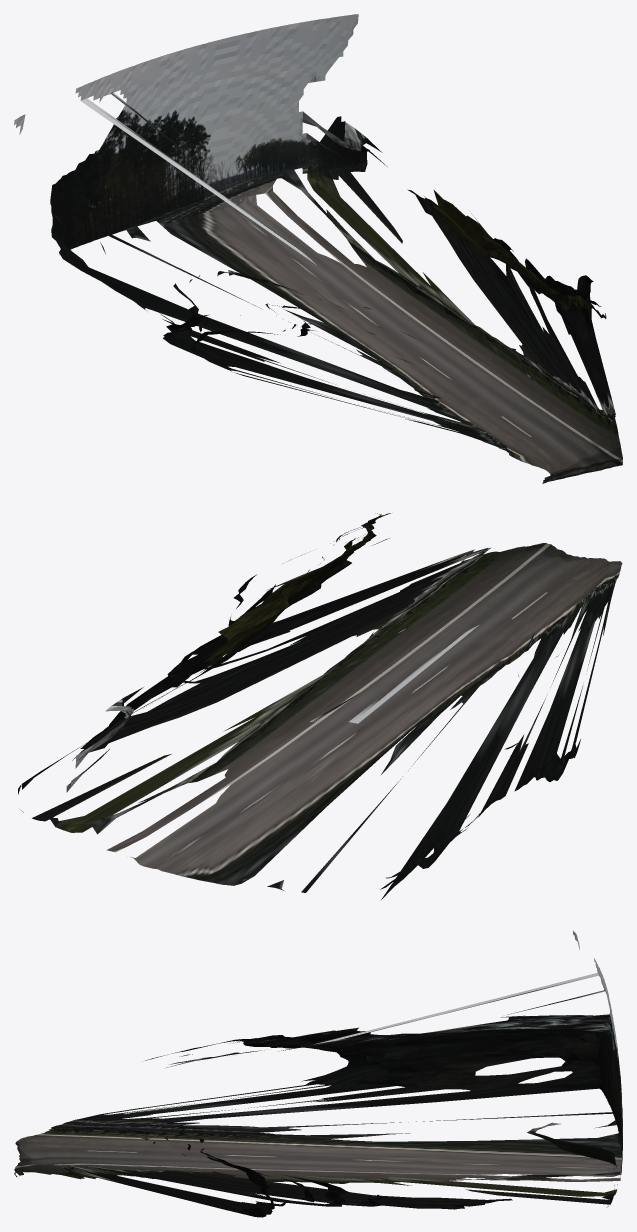
The picture shows the model from 3 angles, top to bottom: view 1: azimuth 30°, elevation 25°; view 2: azimuth 150°, elevation 25°; view 3: azimuth 270°, elevation 25°; orthographic projection. The views are drawn at different scales.
Parts seen in each view (by area): view 1: defaultobject; view 2: defaultobject; view 3: defaultobject.
Boxes of the visible parts, bbox=[...] form: defaultobject: bbox=[14, 14, 622, 483]; defaultobject: bbox=[18, 513, 622, 899]; defaultobject: bbox=[14, 931, 622, 1217].
Bounding box in the file's own units: 27.52 × 11.99 × 44.34.
Materials: 1 (1 with a texture image).
